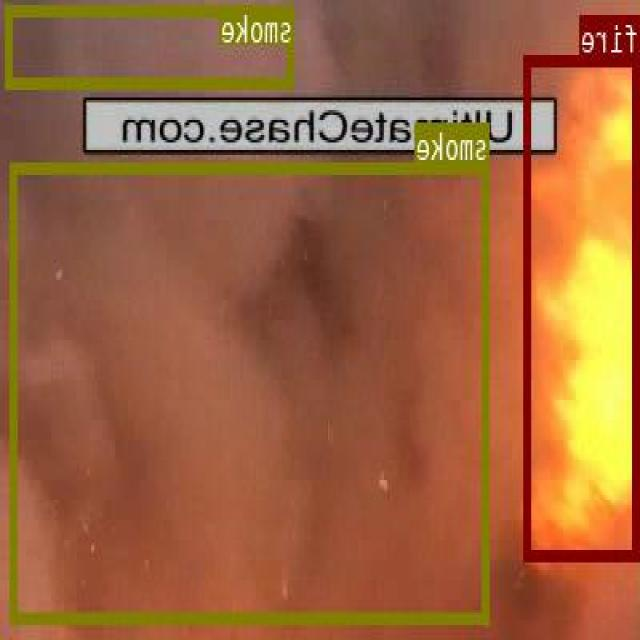fire: (526, 54, 640, 558)
smoke: (12, 161, 491, 620), (8, 5, 296, 87)
